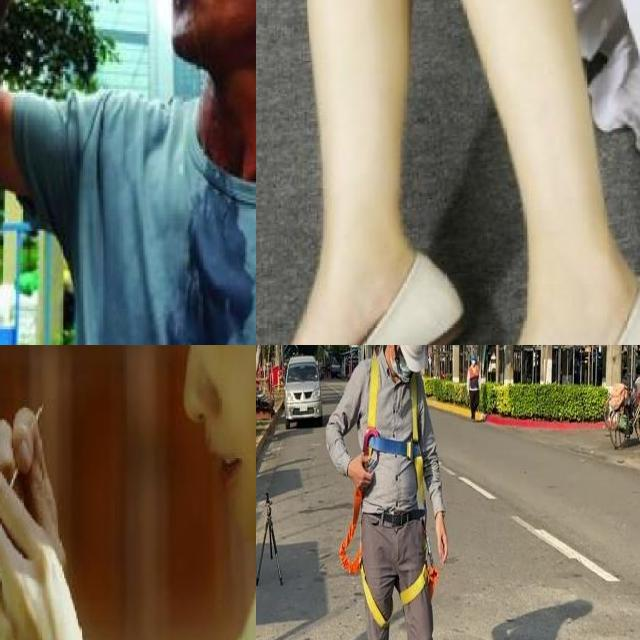Harness: (339, 488, 428, 628), (363, 357, 423, 502)
Sandals: (423, 180, 640, 345), (256, 216, 468, 345)
face_nomask: (148, 345, 256, 529)
hand_noglove: (0, 458, 84, 640), (0, 405, 70, 591)
person: (0, 0, 256, 345), (111, 345, 256, 640)
